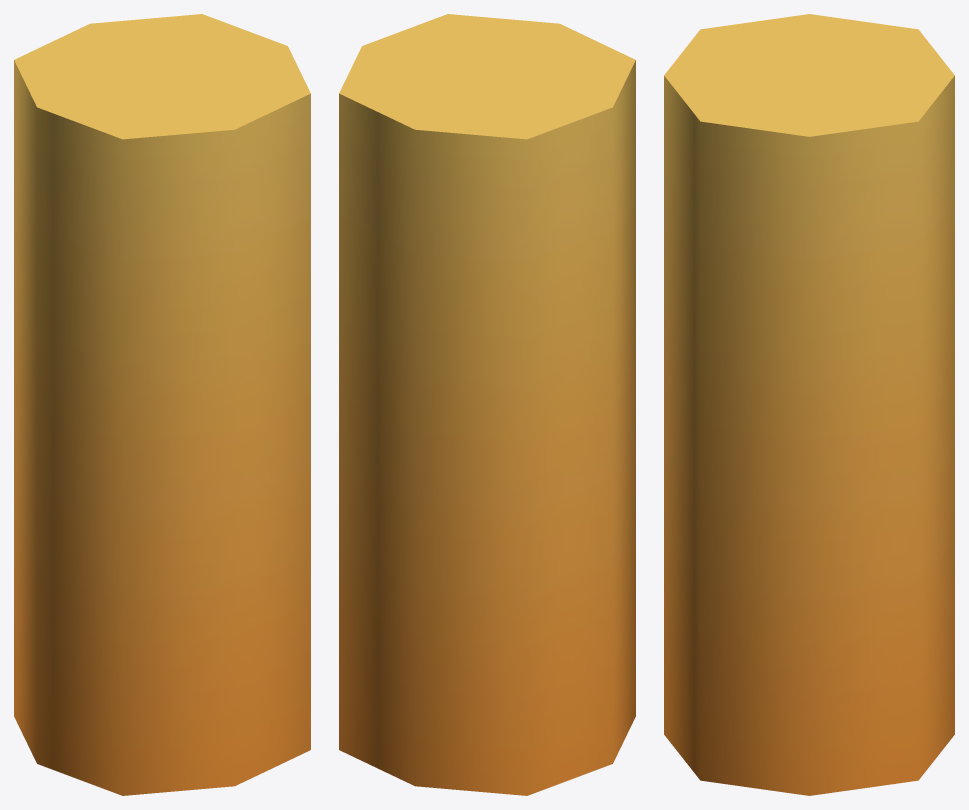
The model's file is bullet-foam.glb.
The picture shows the model from 3 angles, left to right: view 1: azimuth 30°, elevation 25°; view 2: azimuth 150°, elevation 25°; view 3: azimuth 270°, elevation 25°; orthographic projection.
Visible parts, largest first — view 1: bullet-foam; view 2: bullet-foam; view 3: bullet-foam.
Boxes of the visible parts, <box> form: bullet-foam: <box>14,14,310,795</box>; bullet-foam: <box>339,14,635,795</box>; bullet-foam: <box>664,14,954,795</box>.
Bounding box in the file's own units: 0.02 × 0.05 × 0.02.
Materials: 1 (1 with a texture image).
